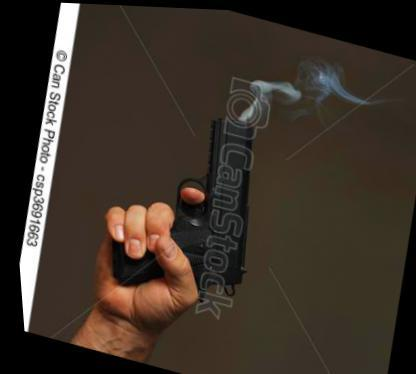pistol: (90, 85, 279, 318)
